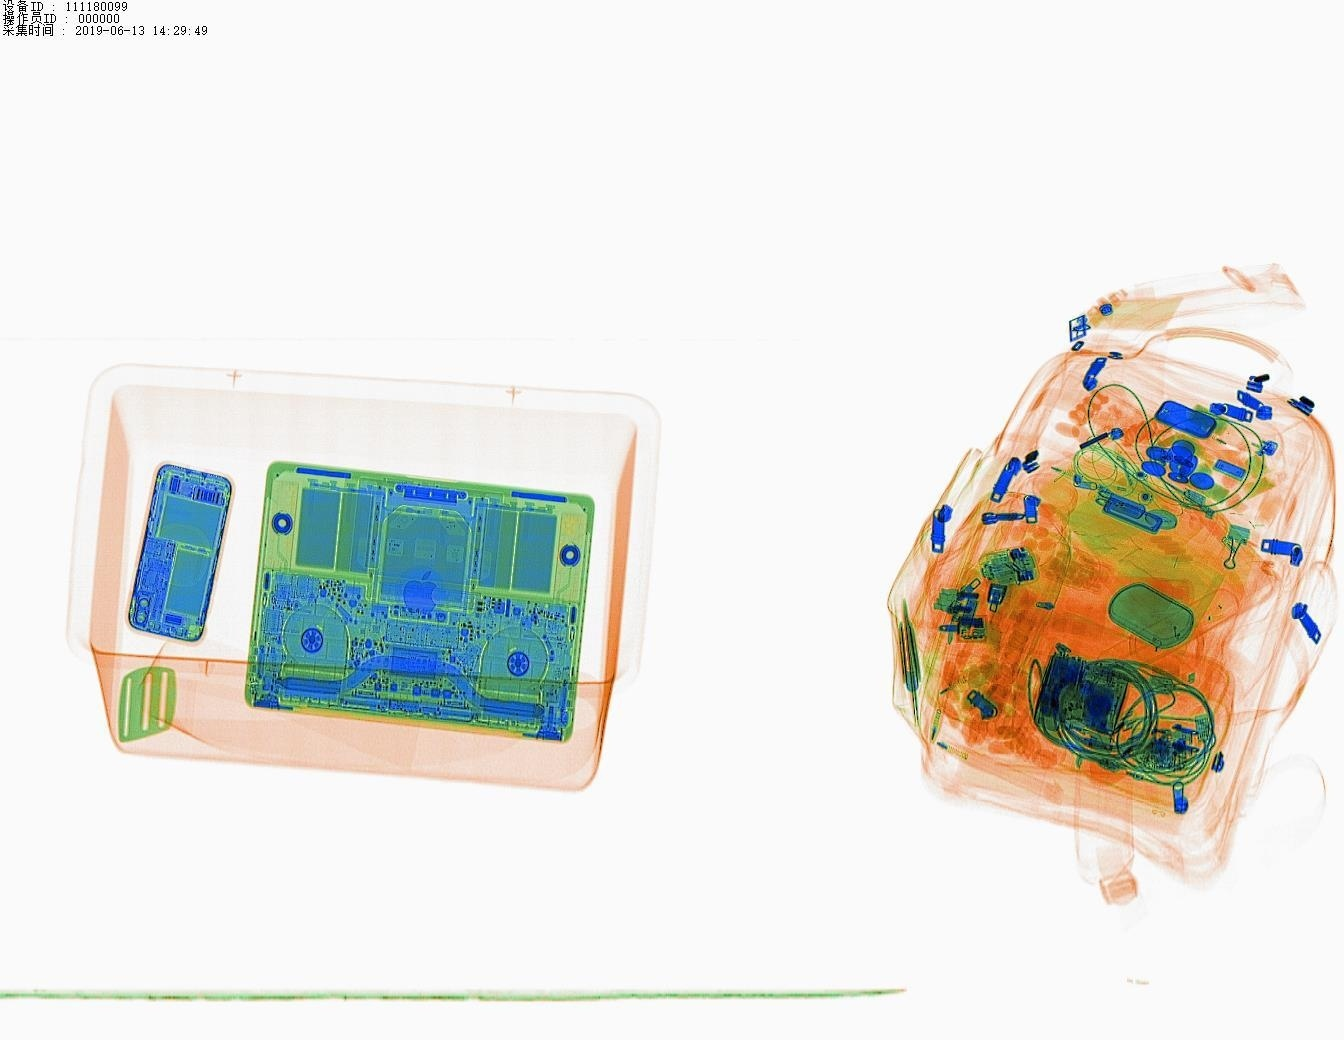NonmetallicFire: (1177, 392, 1293, 478)
